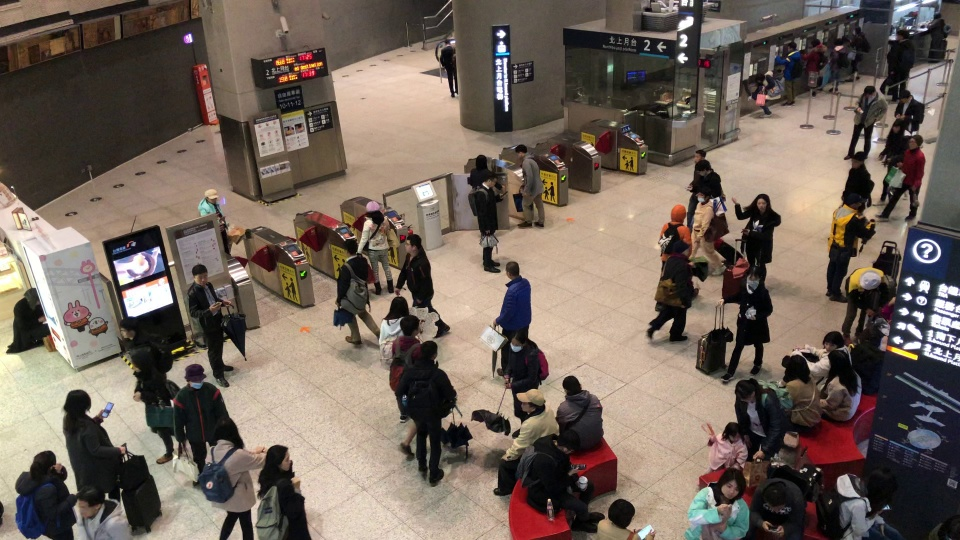person_head: (867, 466, 898, 501), (74, 485, 104, 518), (717, 466, 746, 500), (608, 498, 636, 529), (825, 349, 853, 377), (515, 388, 545, 413), (213, 416, 240, 443), (784, 354, 811, 381), (763, 482, 786, 513), (264, 444, 291, 470), (64, 388, 91, 413), (184, 362, 207, 388), (556, 429, 580, 453), (733, 379, 758, 402), (30, 450, 56, 472), (822, 330, 845, 352), (388, 295, 409, 319), (118, 315, 139, 338), (859, 270, 882, 291), (129, 351, 150, 372), (399, 315, 419, 336), (191, 263, 209, 286), (744, 265, 762, 288), (845, 192, 868, 210), (562, 374, 582, 394), (938, 521, 959, 540), (404, 233, 422, 254), (420, 339, 438, 360), (723, 422, 741, 442), (509, 331, 526, 352), (693, 160, 713, 177), (669, 203, 686, 222), (754, 192, 771, 210), (342, 238, 358, 257), (504, 260, 520, 279), (850, 151, 867, 168), (672, 240, 689, 256), (24, 287, 39, 305), (483, 171, 498, 187), (908, 134, 924, 149), (366, 199, 380, 216), (697, 186, 711, 203), (203, 188, 219, 202), (475, 154, 488, 171), (898, 88, 912, 103), (891, 118, 905, 133), (693, 149, 708, 163), (514, 143, 528, 157), (863, 84, 876, 97), (897, 29, 909, 41), (787, 41, 798, 52), (755, 73, 764, 83), (810, 38, 820, 47), (852, 25, 861, 35), (833, 37, 843, 45), (444, 38, 452, 46), (933, 11, 941, 19)
person_vbox: (516, 429, 605, 534), (195, 416, 268, 540), (395, 340, 457, 486), (62, 389, 126, 525), (492, 388, 559, 496), (172, 363, 229, 486), (715, 265, 773, 382), (813, 464, 902, 540), (183, 263, 234, 386), (392, 233, 450, 338), (128, 351, 180, 463), (824, 191, 876, 303), (13, 450, 77, 540), (643, 239, 695, 344), (255, 444, 310, 540), (748, 465, 819, 539), (333, 237, 381, 343), (683, 466, 750, 540), (732, 378, 793, 459), (503, 330, 548, 438), (731, 192, 781, 286), (492, 260, 532, 377), (873, 134, 925, 222), (775, 330, 852, 388), (654, 201, 692, 313), (554, 374, 605, 451), (467, 171, 505, 274), (872, 117, 913, 209), (841, 265, 886, 346), (117, 314, 173, 379), (389, 314, 422, 423), (776, 353, 822, 431), (357, 200, 395, 293), (695, 421, 748, 487), (881, 88, 925, 167), (688, 186, 726, 277), (842, 85, 887, 160), (819, 348, 863, 424), (73, 484, 129, 540), (684, 160, 725, 233), (6, 287, 50, 354), (513, 143, 545, 229), (597, 497, 656, 540), (378, 294, 410, 371), (197, 187, 230, 255), (839, 151, 875, 210), (887, 27, 914, 102), (774, 41, 804, 107), (800, 37, 827, 99), (750, 70, 783, 118), (466, 154, 505, 193), (845, 24, 870, 83), (828, 35, 848, 94), (439, 37, 458, 96), (926, 11, 951, 41), (928, 517, 959, 540)
